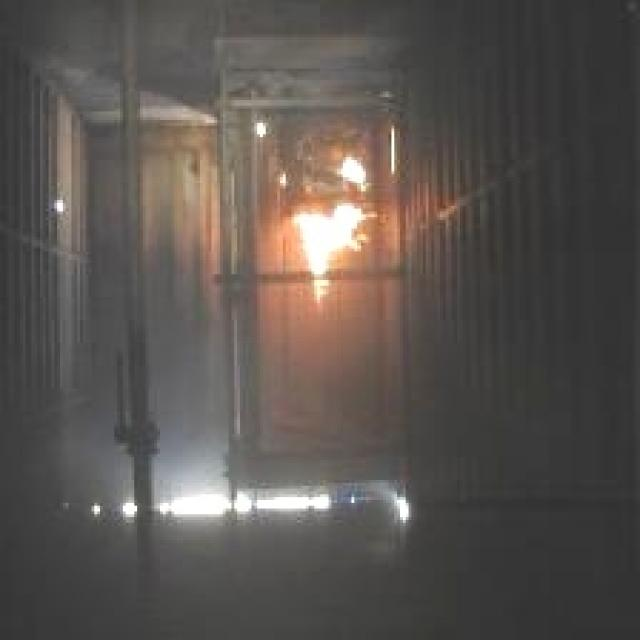fire: (276, 196, 378, 307)
